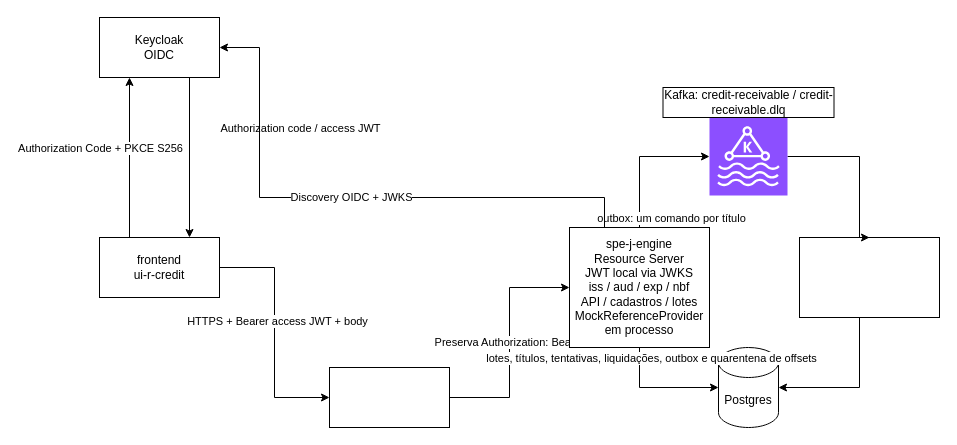
Some shapes in this 957 by 445 pixel diagram are drawn without their labels. Each missing label, with the box of its shape:
nginx TLS / RL / LB: (328, 366, 450, 428)
spe-j-workflow × 2 Compose / mesmo consumer group liquidação por título: (798, 236, 940, 318)
